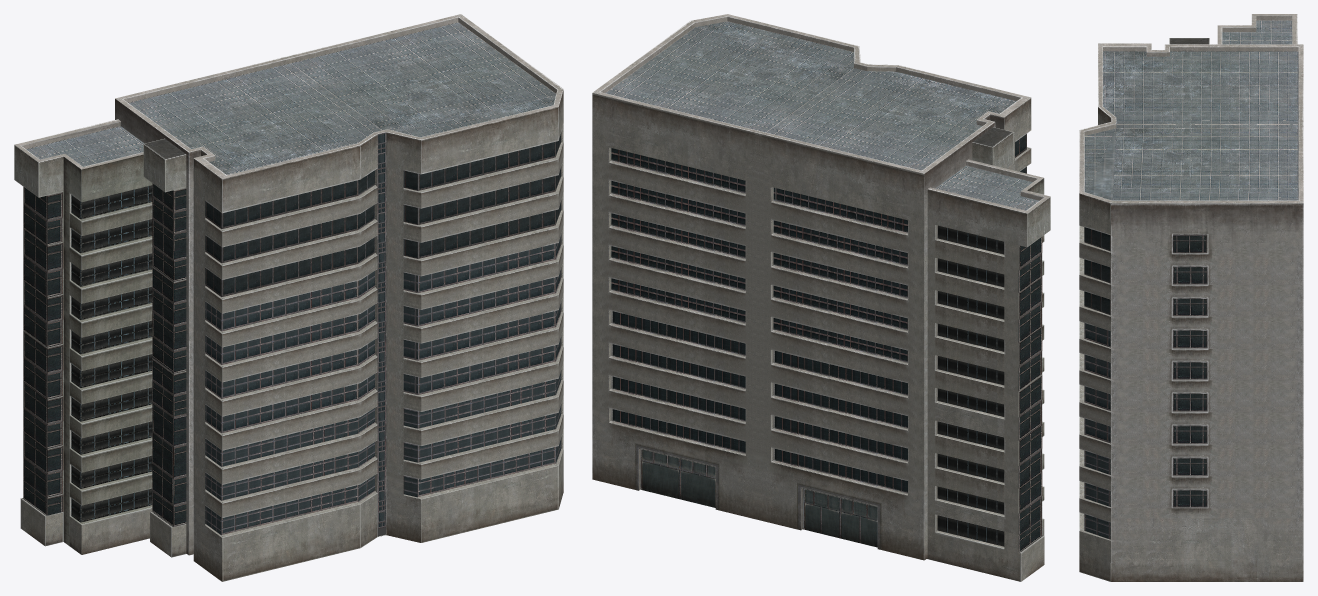
File: buildings_02.FBX
3 renders of one model, left to right at view 1: azimuth 30°, elevation 25°; view 2: azimuth 150°, elevation 25°; view 3: azimuth 270°, elevation 25°, orthographic. The views are drawn at different scales.
Visible parts, largest first — view 1: Object008; view 2: Object008; view 3: Object008.
Boxes of the visible parts, box(x1,y1,x2,y2) form: Object008: box(14, 14, 563, 581); Object008: box(592, 14, 1050, 581); Object008: box(1079, 14, 1303, 581).
Bounding box in the file's own units: 4735 × 2175 × 4060.
Materials: 1 (1 with a texture image).
